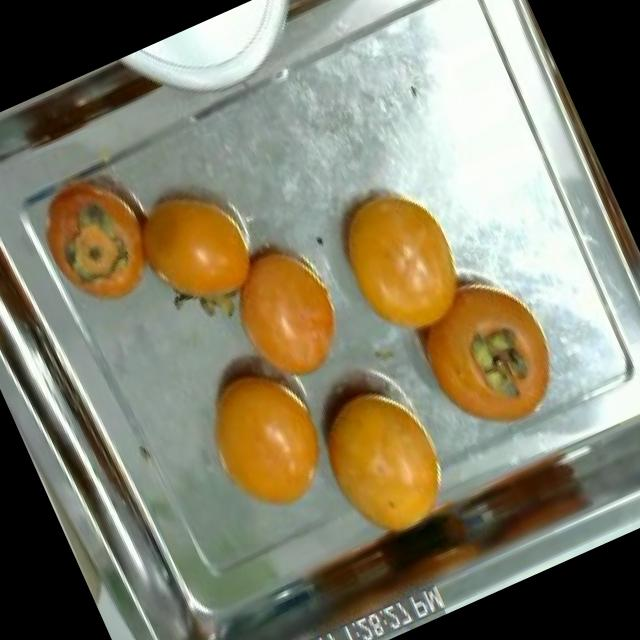Fruit: (288, 348, 480, 574), (390, 250, 582, 457), (196, 207, 376, 415), (8, 138, 190, 335), (309, 160, 486, 360), (176, 342, 350, 540), (110, 153, 279, 335), (0, 43, 186, 181)
